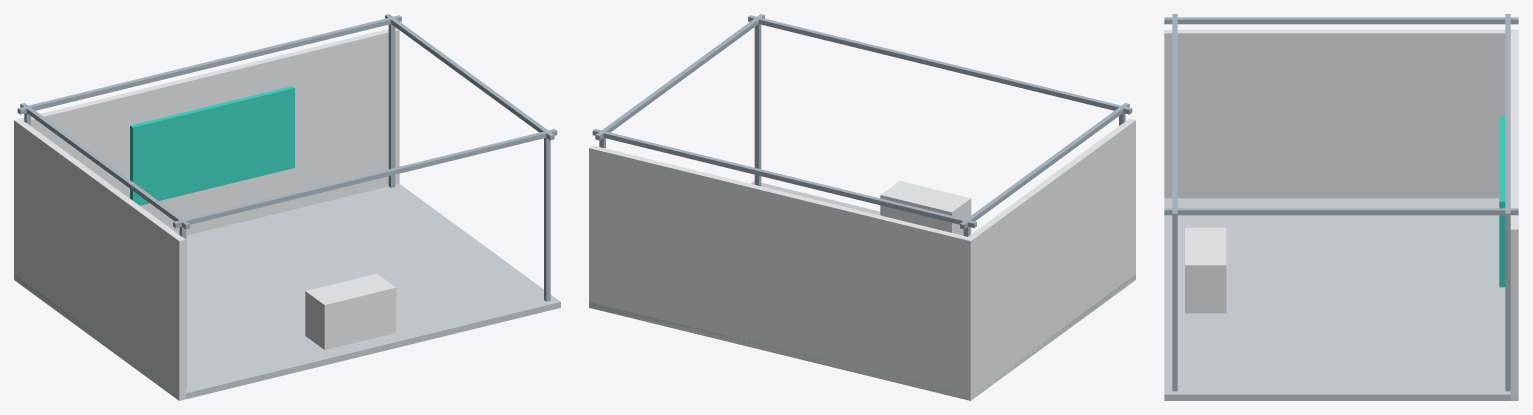
3 views of the same model, side by side, from view 1: azimuth 30°, elevation 25°; view 2: azimuth 150°, elevation 25°; view 3: azimuth 270°, elevation 25° (orthographic). The views are drawn at different scales.
Visible parts, largest first — view 1: Exhibition Booth Concept; view 2: Exhibition Booth Concept; view 3: Exhibition Booth Concept.
Boxes of the visible parts, x1,y1,x2,y2 form: Exhibition Booth Concept: (14, 14, 560, 400); Exhibition Booth Concept: (589, 14, 1135, 400); Exhibition Booth Concept: (1164, 14, 1518, 400).
Size of the model in its own units: 8 by 3.49 by 6.
